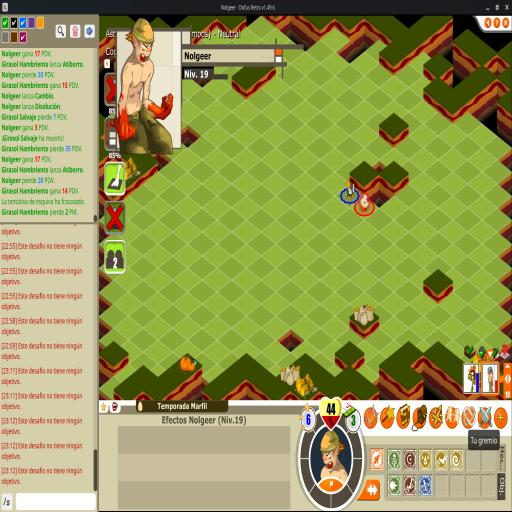Enemigos: (344, 178, 356, 200)
Personaje: (358, 192, 372, 212)
